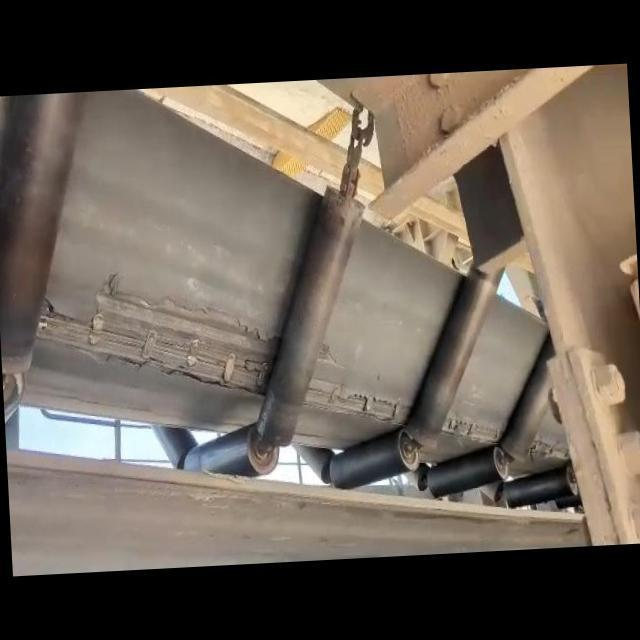Tear: (29, 272, 284, 400), (302, 368, 410, 439), (446, 403, 508, 454)
Wear: (310, 336, 340, 369)
